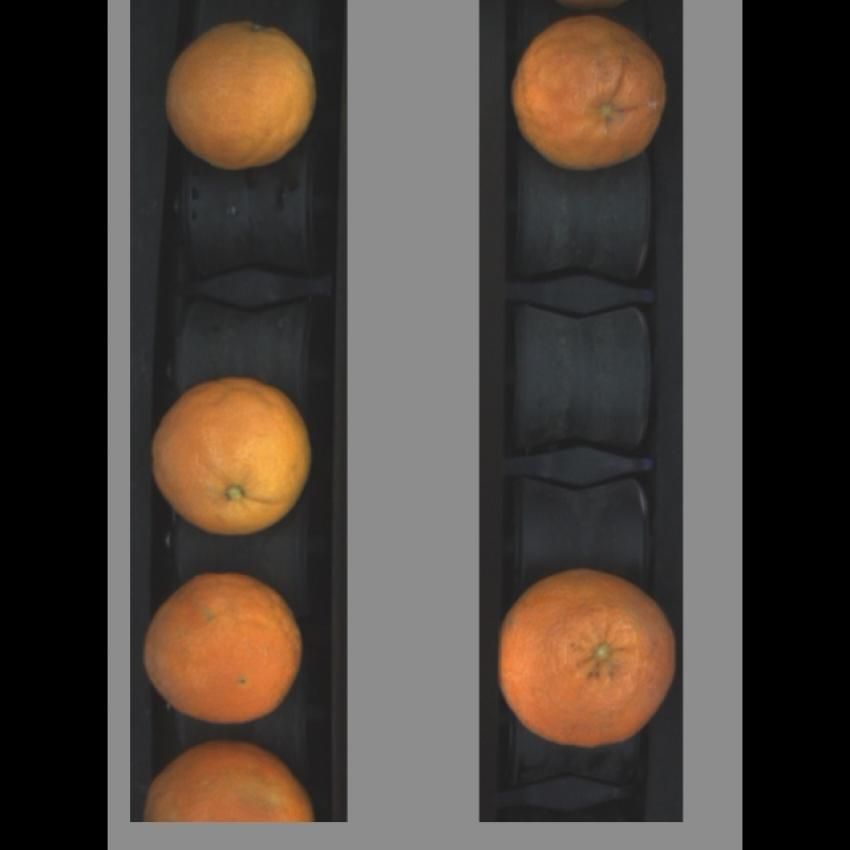Buen estado: (145, 367, 319, 542)
Mal estado: (494, 568, 684, 744), (136, 575, 313, 723), (161, 14, 320, 178), (511, 13, 677, 167), (144, 741, 315, 820)
